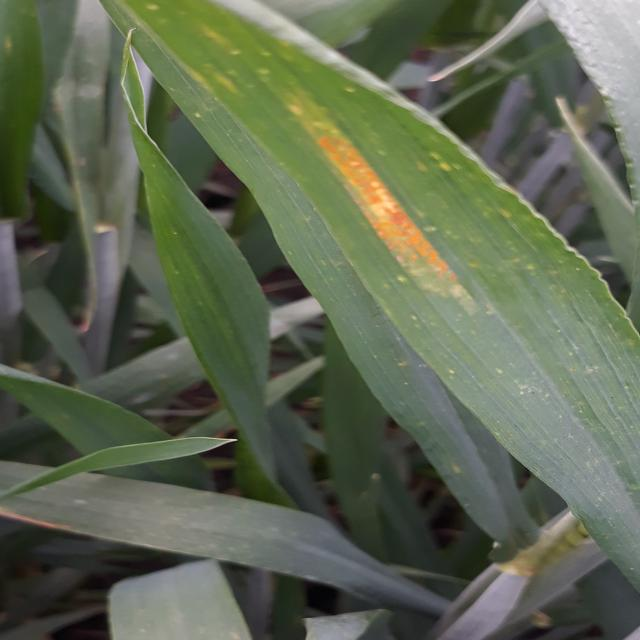yellow_rust: (99, 12, 640, 426), (0, 477, 96, 556), (486, 512, 596, 580)
